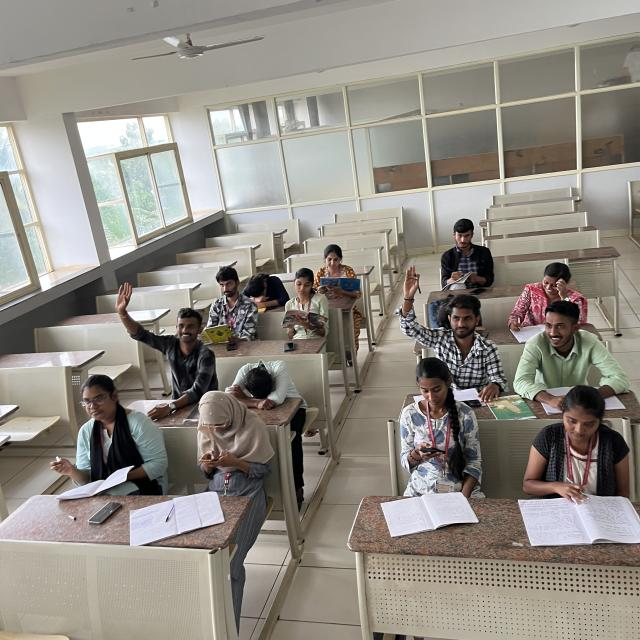Hand Rising: (390, 262, 511, 398), (96, 280, 218, 394)
Reading: (516, 401, 626, 531), (306, 239, 386, 308), (192, 264, 254, 350), (275, 276, 336, 339)
Sleeping: (218, 352, 304, 410), (424, 284, 494, 337), (243, 258, 291, 305)
Using Phone: (374, 359, 489, 492), (182, 392, 281, 488)
Writing: (508, 264, 616, 350), (428, 214, 511, 294)
